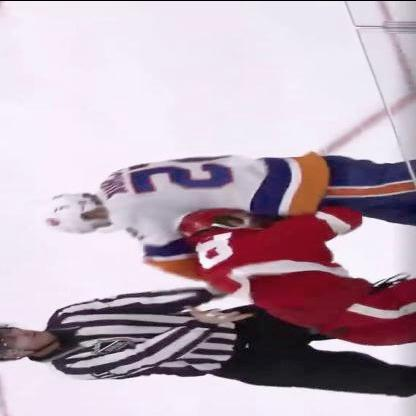voilence: (37, 152, 415, 342)
